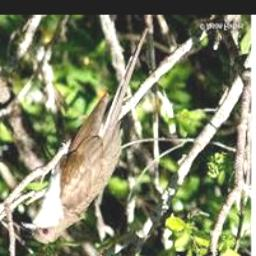Cuckoo: (20, 27, 148, 244)
